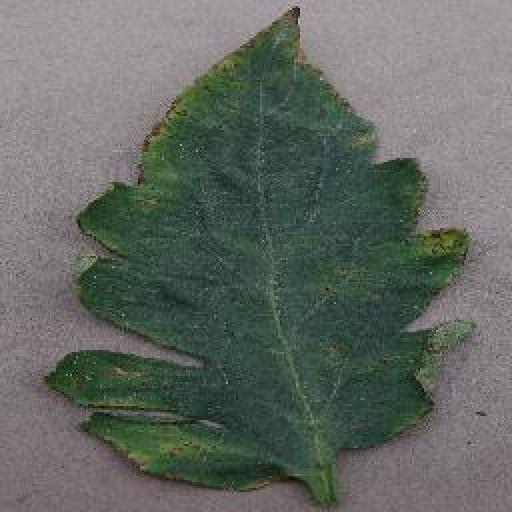Bacterial Spot: (34, 0, 482, 496)
